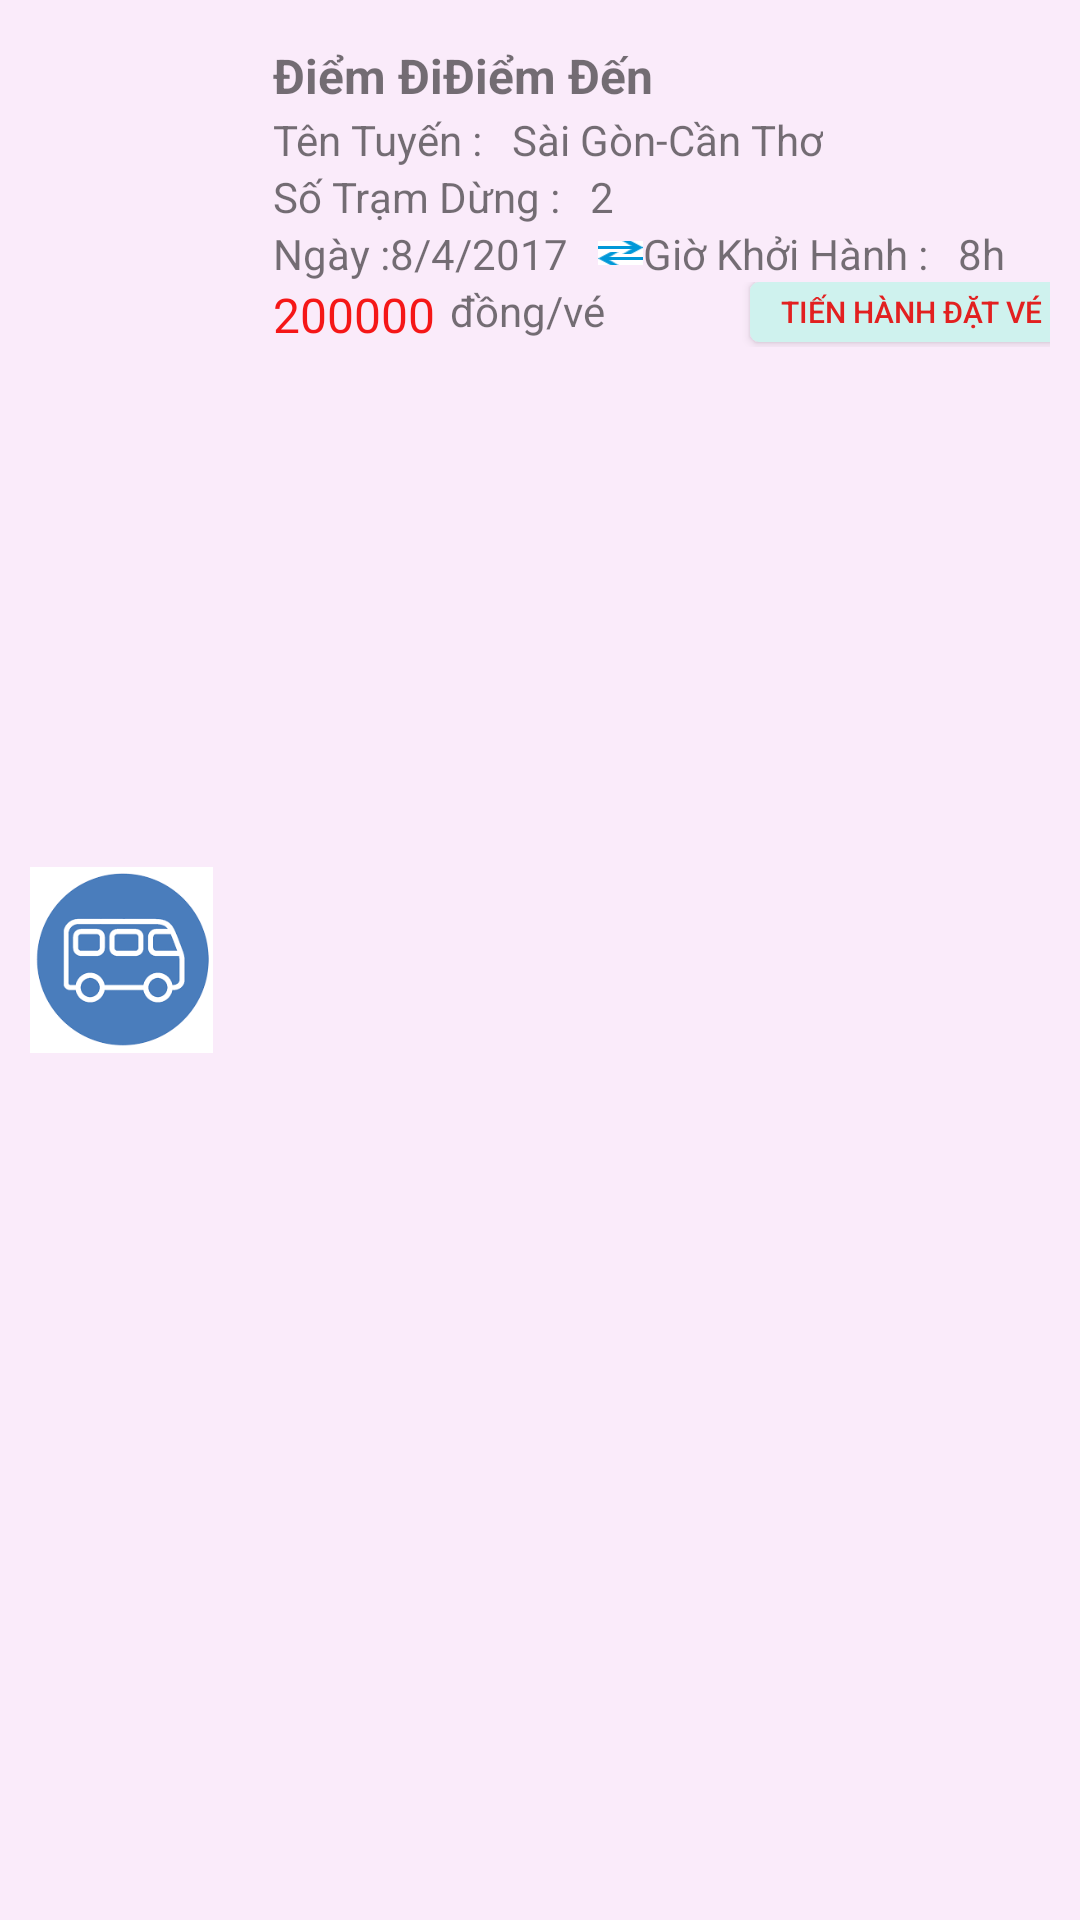

Named icons in this screenshot (1080×1920) and their bounding boxes, bbox=[x1, y1, x2, y2]:
muiten: bbox=[598, 241, 643, 265]
xeicon: bbox=[37, 873, 209, 1046]
